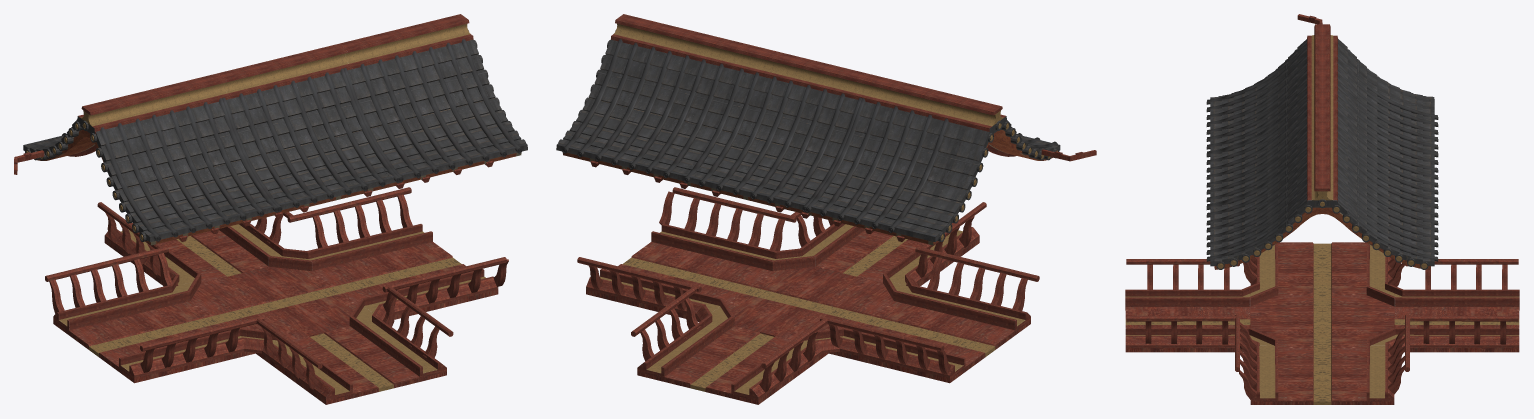
The model's file is pathCrossway.fbx.
3 renders of one model, left to right at view 1: azimuth 30°, elevation 25°; view 2: azimuth 150°, elevation 25°; view 3: azimuth 270°, elevation 25°, orthographic. The views are drawn at different scales.
Parts seen in each view (by area): view 1: polySurface144 (×2), polySurface70, polySurface17 (×6), floor3 (×3), pCube7 (×4), floor4 (×3), polySurface400, pCube9 (×4), floor11, floor12, pCube80, polySurface81 (×3) (+12 smaller); view 2: polySurface70 (×3), polySurface17 (×6), floor4 (×3), polySurface400, pCube7 (×4), floor3 (×3), pCube9 (×4), polySurface82 (×3), polySurface76 (×3), polySurface78 (×3), polySurface77 (×3), polySurface75 (×3) (+9 smaller); view 3: polySurface70 (×4), polySurface400, floor3 (×3), floor4 (×3), polySurface144 (×2), polySurface17 (×6), pCube7 (×4), polySurface82 (×6), polySurface76 (×6), polySurface78 (×6), polySurface75 (×6), polySurface77 (×6) (+13 smaller).
Boxes of the visible parts, x1,y1,x2,y2 form: polySurface144 (×2): (95, 69, 406, 242); polySurface70: (347, 39, 527, 179); polySurface17 (×6): (77, 14, 473, 133); floor3 (×3): (53, 242, 457, 353); pCube7 (×4): (53, 224, 498, 378); floor4 (×3): (94, 261, 498, 383); polySurface400: (97, 202, 311, 300); pCube9 (×4): (45, 187, 506, 351); floor11: (317, 326, 446, 389); floor12: (256, 335, 386, 404); pCube80: (349, 315, 446, 376); polySurface81 (×3): (117, 63, 420, 237); polySurface70 (×3): (556, 39, 989, 241); polySurface17 (×6): (610, 14, 1006, 133); floor4 (×3): (626, 242, 1030, 353); polySurface400: (631, 285, 844, 404); pCube7 (×4): (586, 223, 1030, 378); floor3 (×3): (586, 261, 990, 383); pCube9 (×4): (577, 187, 1039, 351); polySurface82 (×3): (645, 59, 948, 232); polySurface76 (×3): (595, 47, 898, 220); polySurface78 (×3): (629, 55, 932, 228); polySurface77 (×3): (611, 51, 914, 224); polySurface75 (×3): (577, 43, 880, 216); polySurface70 (×4): (1210, 39, 1434, 266); polySurface400: (1366, 259, 1519, 352); floor3 (×3): (1322, 242, 1394, 404); floor4 (×3): (1250, 242, 1322, 404); polySurface144 (×2): (1210, 39, 1306, 209); polySurface17 (×6): (1307, 24, 1337, 205); pCube7 (×4): (1250, 243, 1394, 400); polySurface82 (×6): (1206, 55, 1438, 225); polySurface76 (×6): (1206, 77, 1438, 247); polySurface78 (×6): (1206, 62, 1438, 232); polySurface75 (×6): (1206, 84, 1438, 254); polySurface77 (×6): (1206, 70, 1438, 240).
Size of the model in its own units: 9.98 by 5.03 by 8.2.
